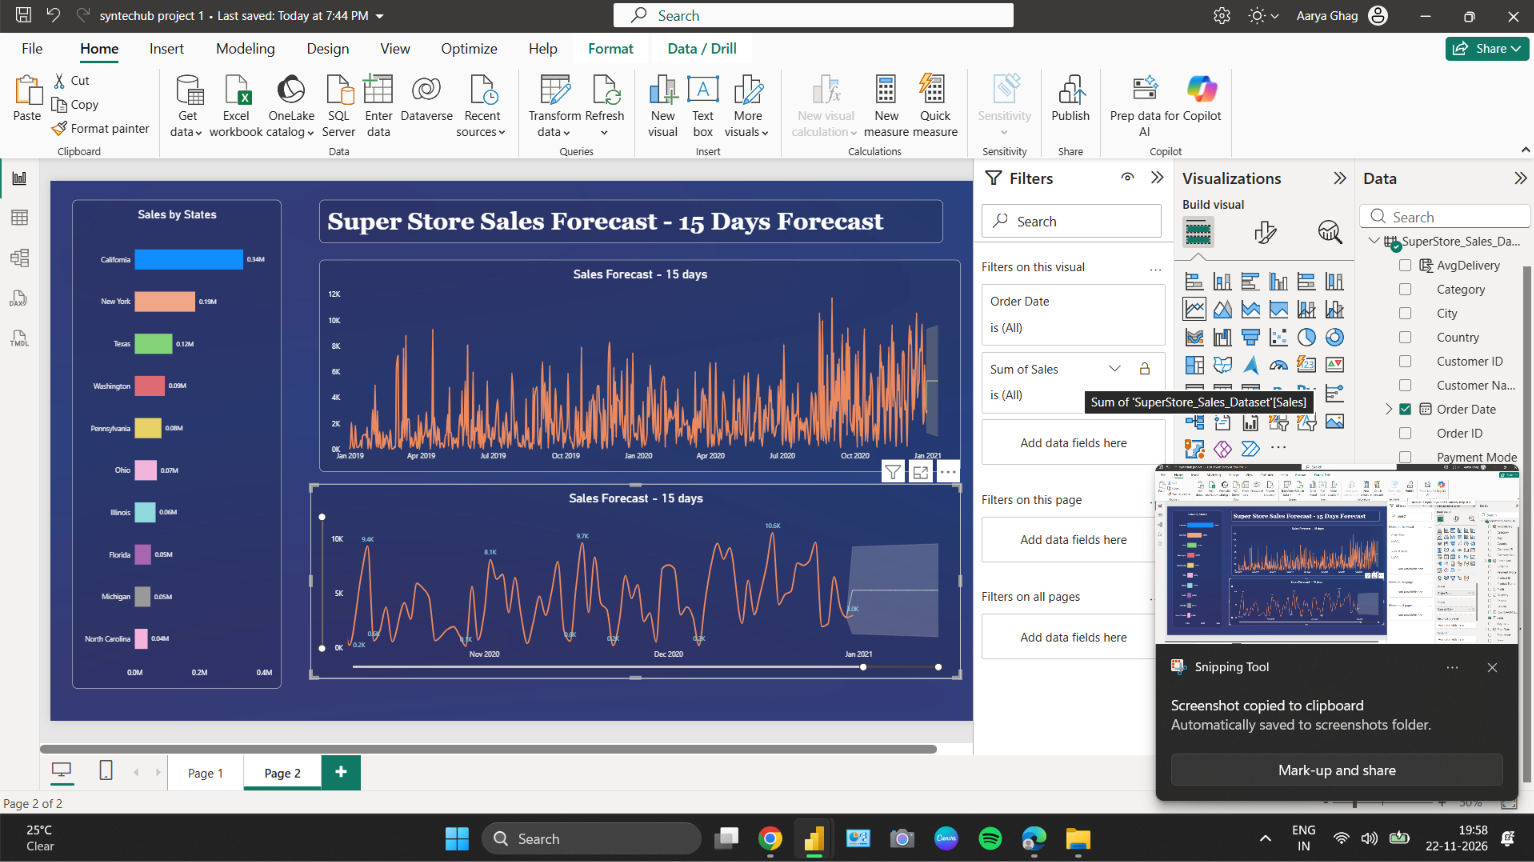

The page's visual inventory and layout, read from the dashboard file:
{"tool":"powerbi","page":{"name":"Page 2","canvas":[1920,1080],"ordinal":1},"visuals":[{"type":"lineChart","title":"Sales Forecast - 15 days","fields":{"Category":["SuperStore_Sales_Dataset.Order Date"],"Y":["Sum(SuperStore_Sales_Dataset.Sales)"]},"box":[537.2,158.5,1282.3,424],"z":0},{"type":"lineChart","title":"Sales Forecast - 15 days","fields":{"Category":["SuperStore_Sales_Dataset.Order Date"],"Y":["Sum(SuperStore_Sales_Dataset.Sales)"]},"box":[537.2,603.1,1301.1,389.1],"z":1000},{"type":"clusteredBarChart","title":"Sales by States","fields":{"Category":["SuperStore_Sales_Dataset.State"],"Y":["Sum(SuperStore_Sales_Dataset.Sales)"]},"box":[43.2,37,417.8,977.7],"z":2000},{"type":"textbox","box":[537.2,37,1247.3,86.4],"z":3000}]}

Visuals, with their boxes on the page's 1920x1080 design canvas (x1, y1, x2, y2). These are canvas units, not pixel positions in the 1534x862 screenshot, which may show the page scaled, cropped or inside an application window:
"Sales Forecast - 15 days" lineChart: x1=537 y1=158 x2=1820 y2=582
"Sales Forecast - 15 days" lineChart: x1=537 y1=603 x2=1838 y2=992
"Sales by States" clusteredBarChart: x1=43 y1=37 x2=461 y2=1015
textbox: x1=537 y1=37 x2=1784 y2=123
